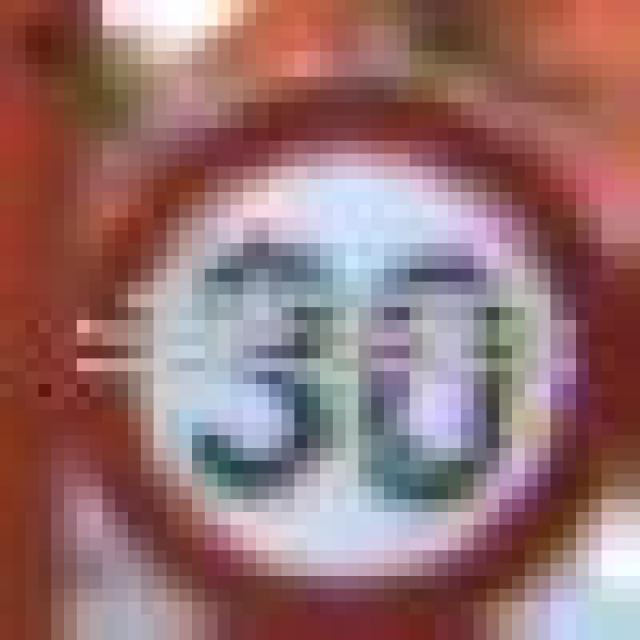SPEED_LIMIT_30: (51, 51, 602, 627)
